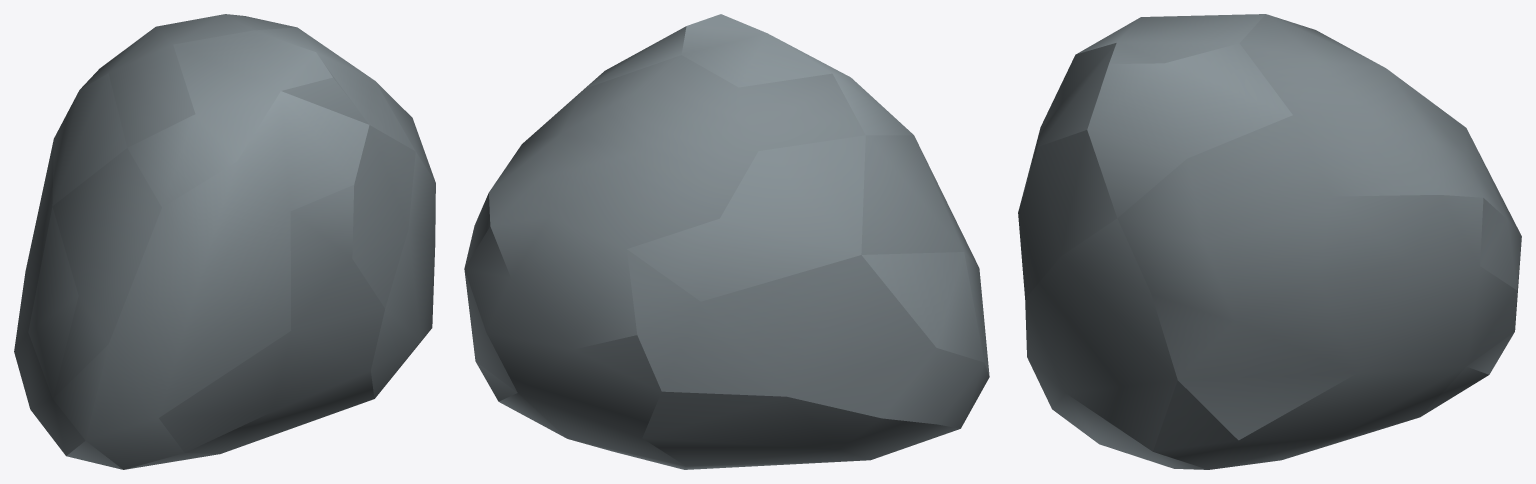
The model's file is Rock_3_L_Color1.glb.
The picture shows the model from 3 angles, left to right: view 1: azimuth 30°, elevation 25°; view 2: azimuth 150°, elevation 25°; view 3: azimuth 270°, elevation 25°; orthographic projection. The views are drawn at different scales.
Parts seen in each view (by area): view 1: Rock_3_L_Color1; view 2: Rock_3_L_Color1; view 3: Rock_3_L_Color1.
Part boxes in pixels (x1=…): Rock_3_L_Color1: x1=14, y1=14, x2=435, y2=469; Rock_3_L_Color1: x1=464, y1=14, x2=989, y2=469; Rock_3_L_Color1: x1=1018, y1=14, x2=1521, y2=469.
Bounding box in the file's own units: 2.62 × 2.27 × 2.56.
Materials: 1 (1 with a texture image).
